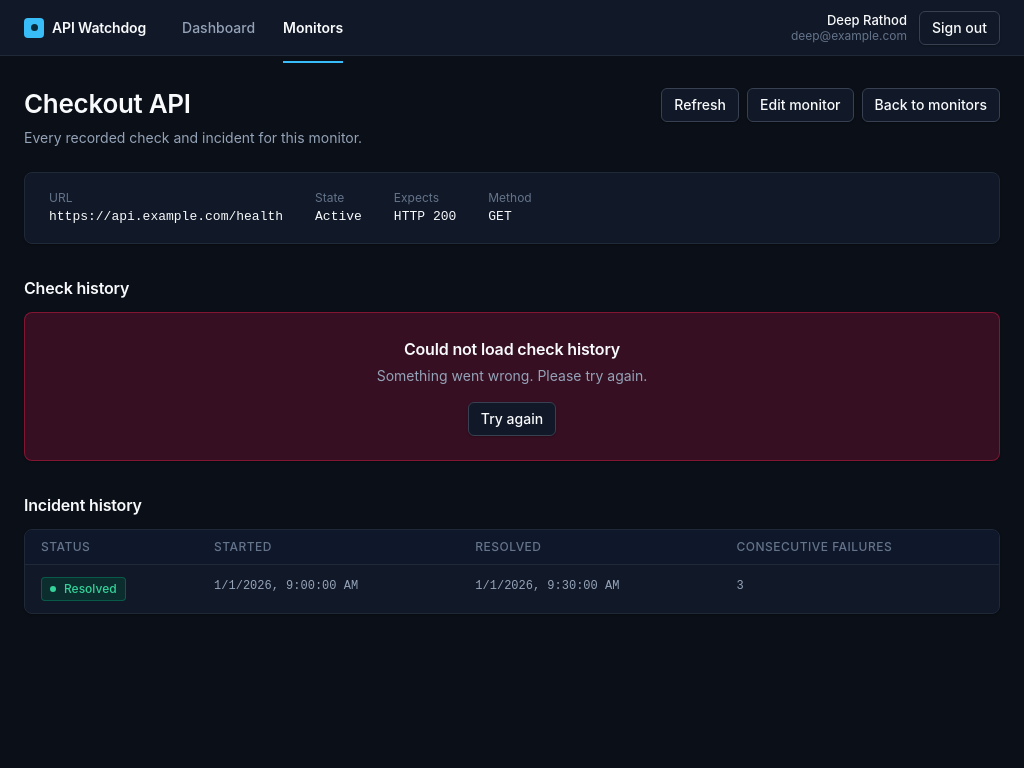
check history › reports a failed load and retries it
Expected: the message shows "Something went wrong", 377,367 -> 647,384
Click the button "Try again".
click(512, 419)  # box 468,402 -> 556,436
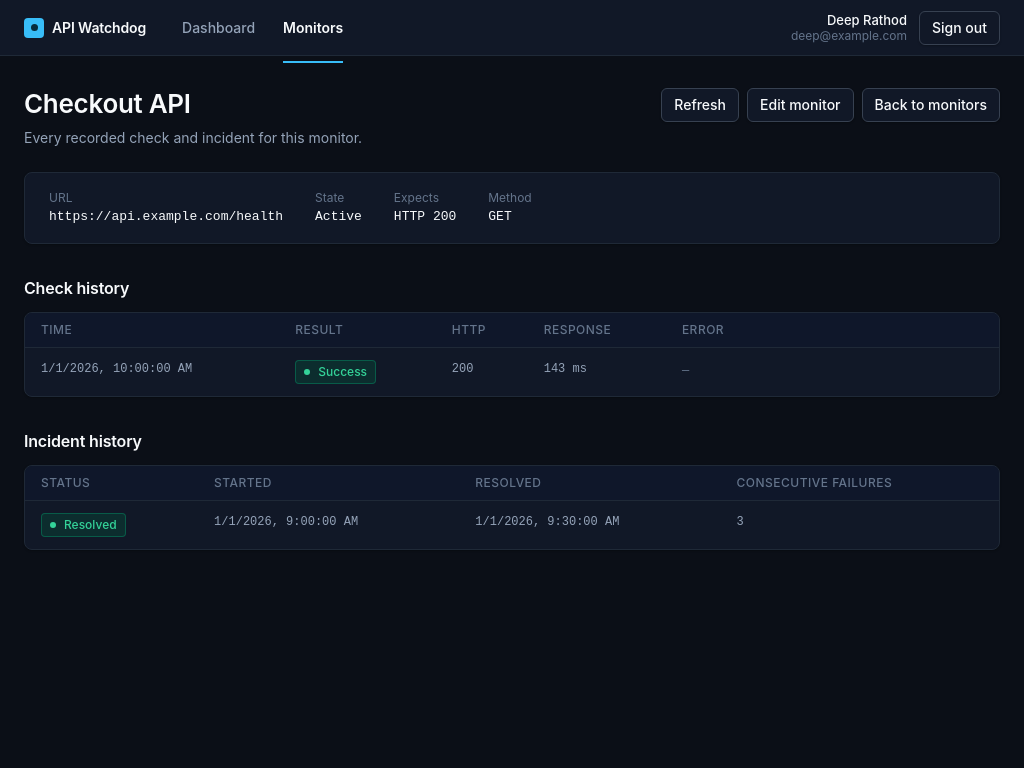
Now the table that starts with "Time" is shown, box 25,313 -> 999,396
